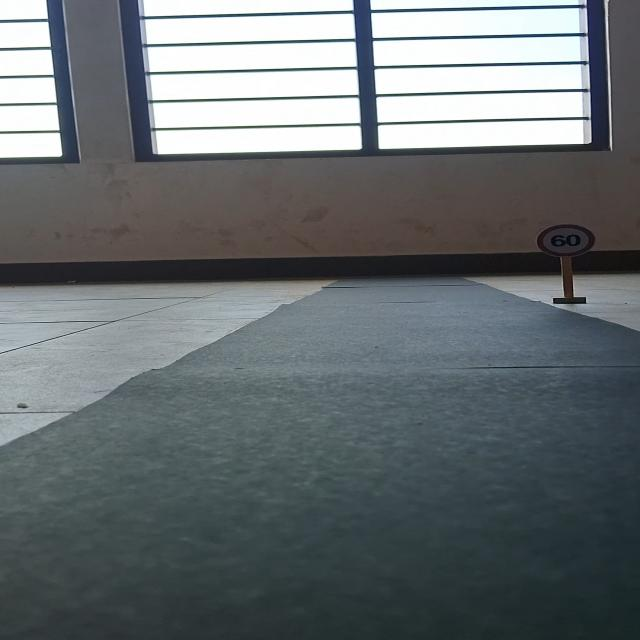Speed60: (536, 222, 597, 259)
